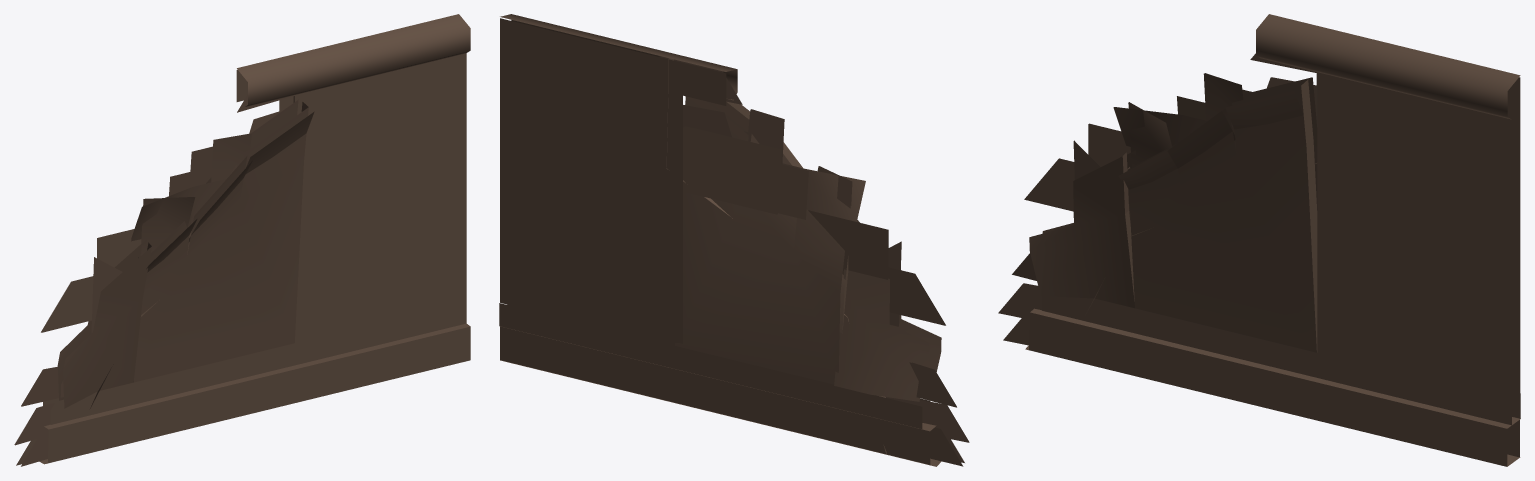
File: DBK_Molding_Bottom_End_A_Mirror.fbx
3 views of the same model, side by side, from view 1: azimuth 30°, elevation 25°; view 2: azimuth 150°, elevation 25°; view 3: azimuth 330°, elevation 25° (orthographic). The views are drawn at different scales.
Parts seen in each view (by area): view 1: DBK_Molding_Bottom_End_A_Mirror; view 2: DBK_Molding_Bottom_End_A_Mirror; view 3: DBK_Molding_Bottom_End_A_Mirror.
Part boxes in pixels (left/top/right/bottom): DBK_Molding_Bottom_End_A_Mirror: left=14, top=14, right=470, bottom=466; DBK_Molding_Bottom_End_A_Mirror: left=499, top=14, right=969, bottom=466; DBK_Molding_Bottom_End_A_Mirror: left=998, top=14, right=1520, bottom=466.
Bounding box in the file's own units: 141 × 100 × 16.15.
